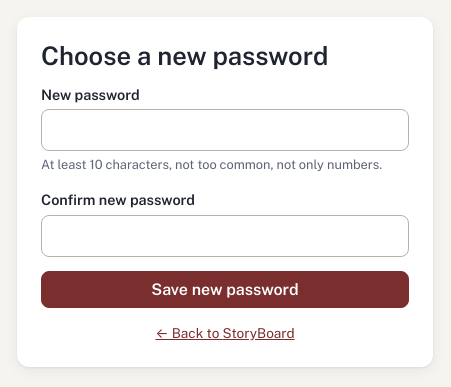
ResetPasswordPage › shows the server's password error on the field
Type "Correct-horse-battery-9" into the password field labelled "New password".
click(225, 130); type("Correct-horse-battery-9")  # box [41, 109, 409, 151]
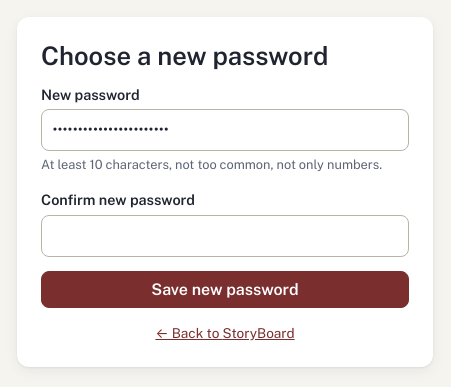
Type "Correct-horse-battery-9" into the password field labelled "Confirm new password".
click(225, 236); type("Correct-horse-battery-9")  # box [41, 215, 409, 257]
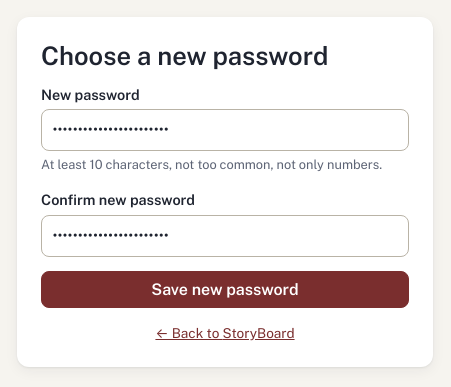
Click the button "Save new password".
click(225, 290)  # box [41, 271, 409, 308]
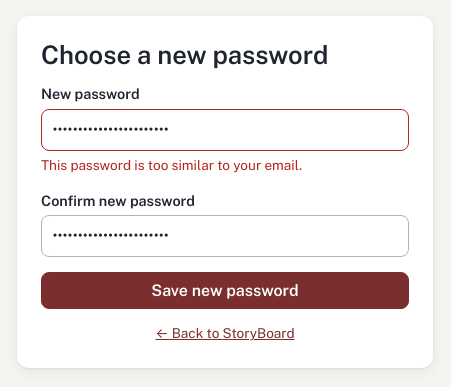
Now the text "This password is too similar to your email." is shown, box [41, 157, 302, 173]
